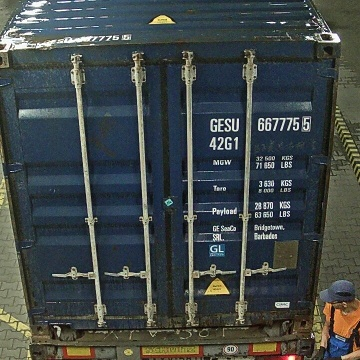serial_id: (210, 116, 311, 131)
